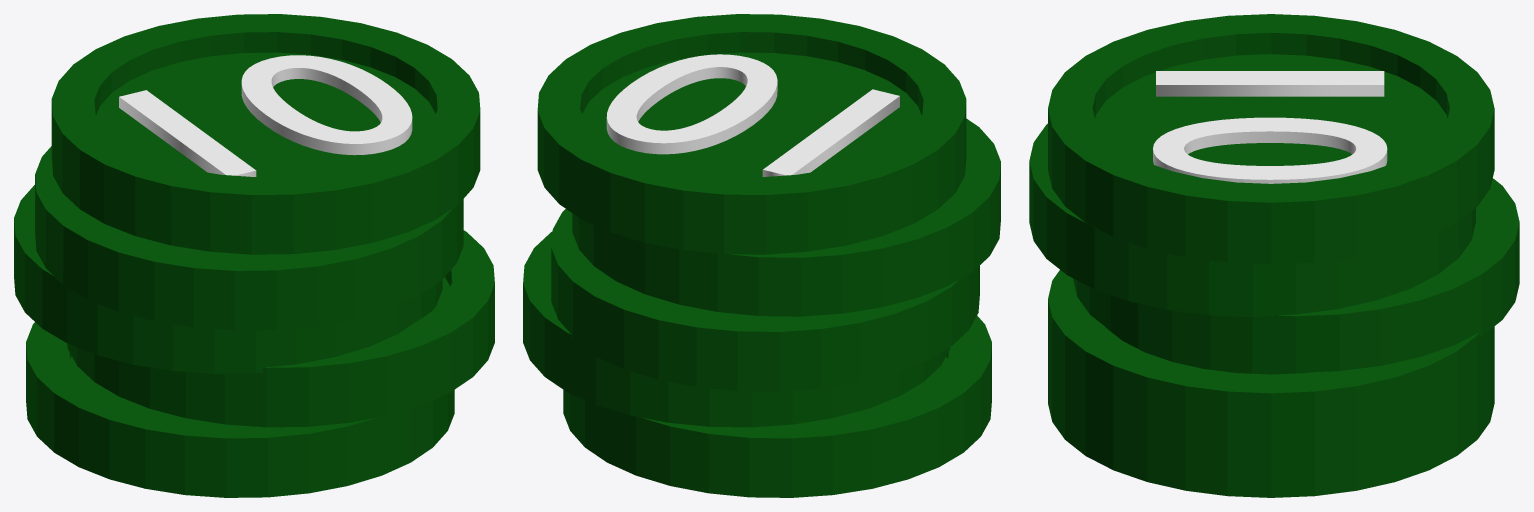
Rendered from stos_monet_10.fbx.
3 renders of one model, left to right at view 1: azimuth 30°, elevation 25°; view 2: azimuth 150°, elevation 25°; view 3: azimuth 270°, elevation 25°, orthographic. The views are drawn at different scales.
Visible parts, largest first — view 1: MONETA_10.004, MONETA_10.003, MONETA_10, MONETA_10.001, MONETA_10.002, NOMINAL_G.004; view 2: MONETA_10.004, MONETA_10.002, MONETA_10, MONETA_10.003, MONETA_10.001, NOMINAL_G.004; view 3: MONETA_10.004, MONETA_10.001, MONETA_10.002, MONETA_10.003, MONETA_10, NOMINAL_G.004.
Boxes of the visible parts, bbox=[...] form: MONETA_10.004: bbox=[51, 14, 480, 254]; MONETA_10.003: bbox=[35, 146, 463, 330]; MONETA_10: bbox=[26, 322, 454, 497]; MONETA_10.001: bbox=[67, 230, 494, 427]; MONETA_10.002: bbox=[14, 185, 442, 373]; NOMINAL_G.004: bbox=[119, 55, 412, 176]; MONETA_10.004: bbox=[537, 14, 966, 254]; MONETA_10.002: bbox=[551, 209, 979, 391]; MONETA_10: bbox=[563, 315, 991, 497]; MONETA_10.003: bbox=[572, 118, 1000, 316]; MONETA_10.001: bbox=[523, 231, 950, 427]; NOMINAL_G.004: bbox=[606, 54, 899, 176]; MONETA_10.004: bbox=[1048, 14, 1494, 264]; MONETA_10.001: bbox=[1048, 270, 1494, 455]; MONETA_10.002: bbox=[1073, 178, 1519, 374]; MONETA_10.003: bbox=[1029, 123, 1475, 316]; MONETA_10: bbox=[1048, 361, 1494, 497]; NOMINAL_G.004: bbox=[1153, 71, 1387, 183].
Size of the model in its own units: 222 by 152 by 220.
